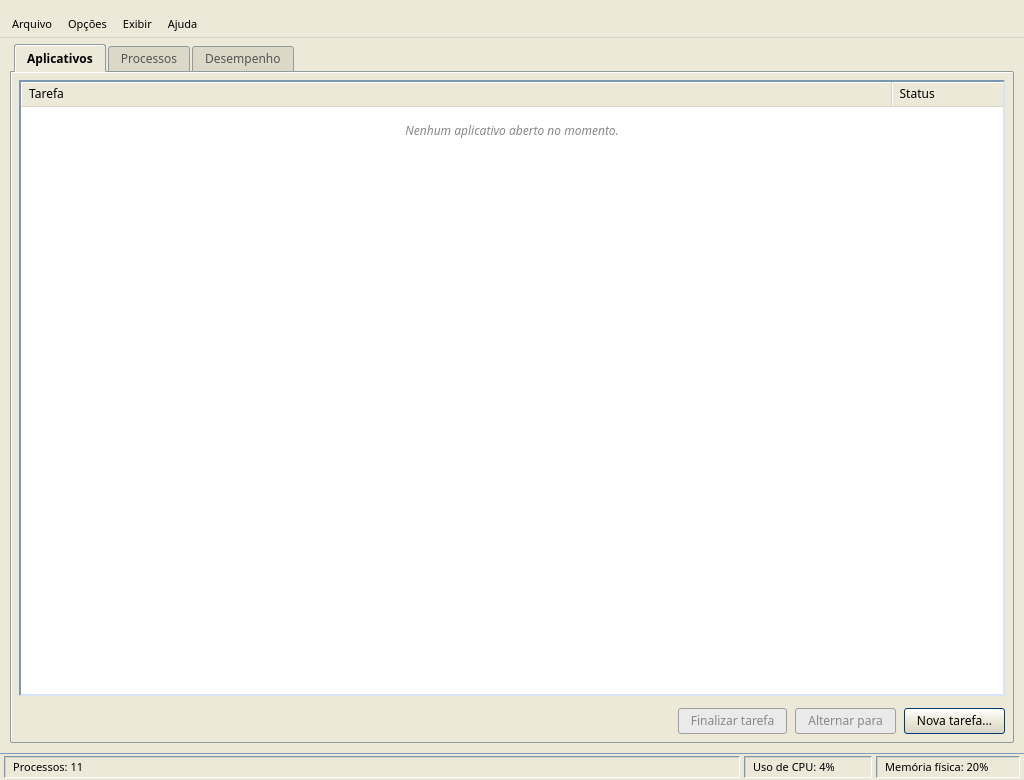
Test: TaskManagerApp › switches to Desempenho tab and displays CPU and Memory performance oscilloscopes
The image size is (1024, 780).
Switch to Desempenho tab
Click the tab "Desempenho" at (243, 58), box [192,46,294,72]
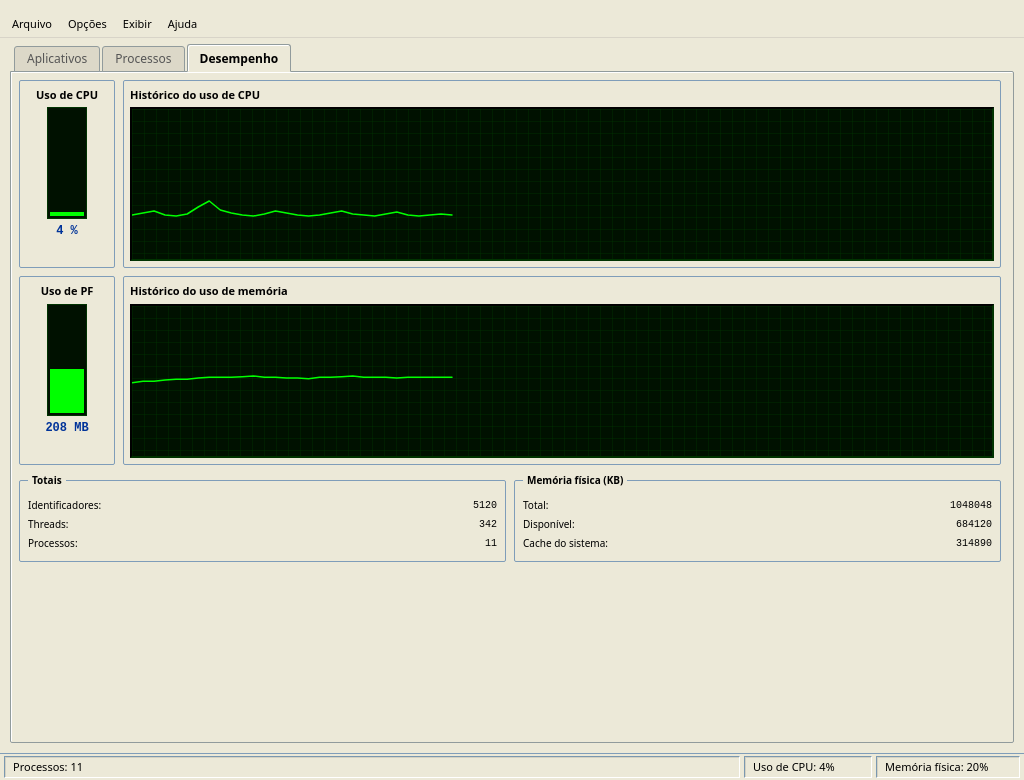
Expected: the text "Uso de CPU" is shown, [36,86,98,103]
Expected: the text "Histórico do uso de CPU" is shown, [130,86,260,102]
Expected: the text "Uso de PF" is shown, [41,283,93,300]
